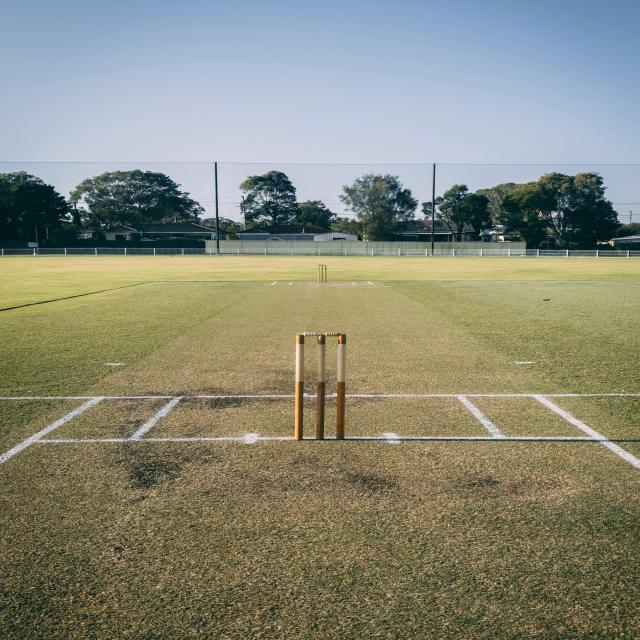stumps: (291, 328, 354, 443), (316, 263, 328, 284)
